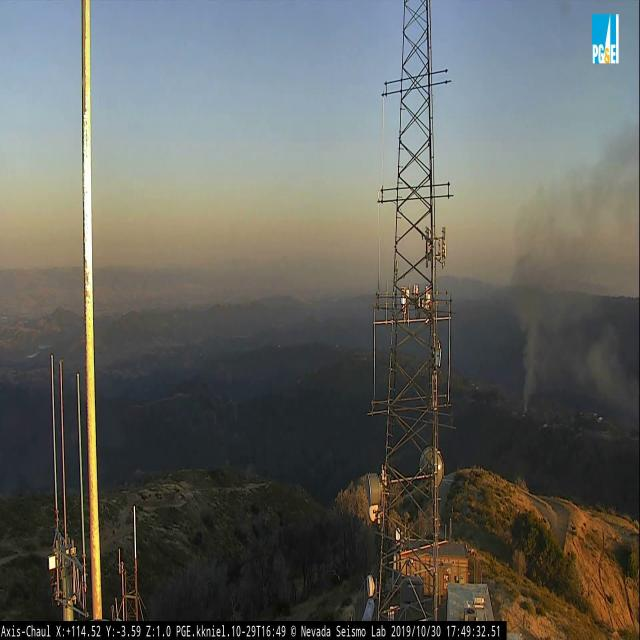smoke: (503, 118, 640, 415)
